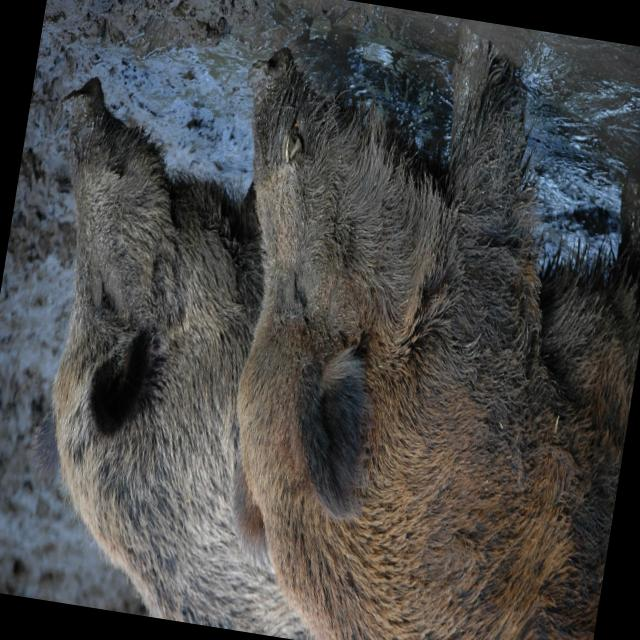pig: (238, 38, 640, 640), (50, 76, 318, 640)
